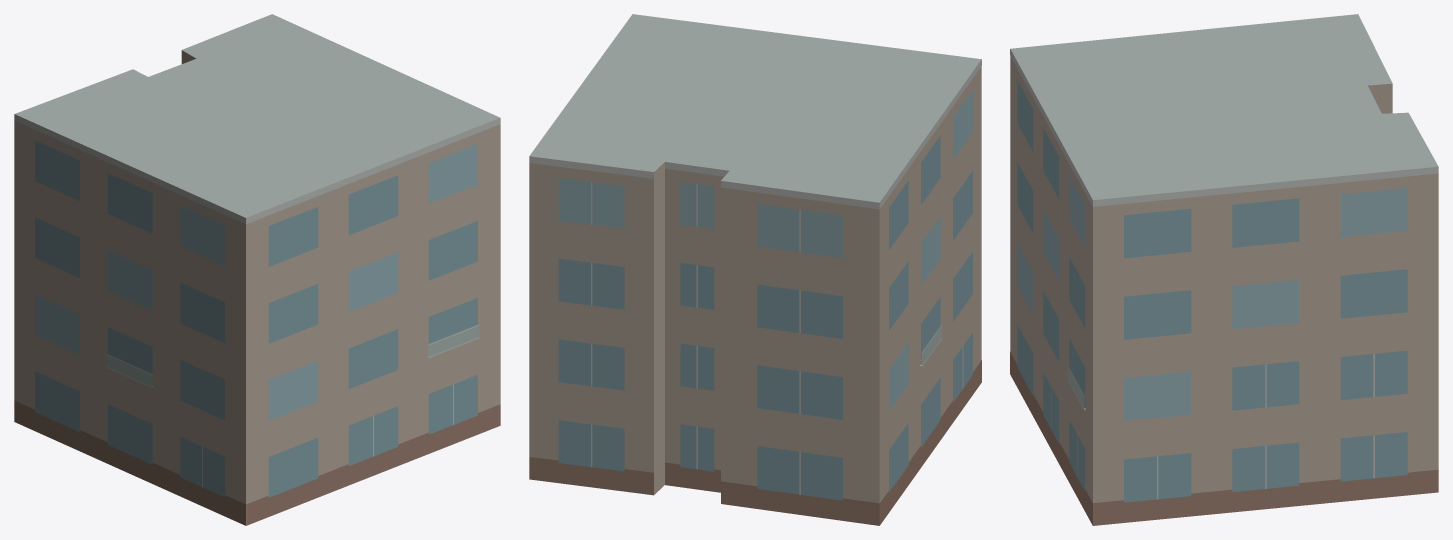
File: survey-upis-32685134.glb
3 renders of one model, left to right at view 1: azimuth 30°, elevation 25°; view 2: azimuth 150°, elevation 25°; view 3: azimuth 270°, elevation 25°, orthographic. The views are drawn at different scales.
Visible parts, largest first — view 1: survey-upis-32685134.tmp; view 2: survey-upis-32685134.tmp; view 3: survey-upis-32685134.tmp.
Boxes of the visible parts, x1,y1,x2,y2 form: survey-upis-32685134.tmp: (14, 14, 500, 525); survey-upis-32685134.tmp: (529, 14, 981, 525); survey-upis-32685134.tmp: (1010, 14, 1438, 525).
Bounding box in the file's own units: 14.48 × 11.8 × 14.08.
